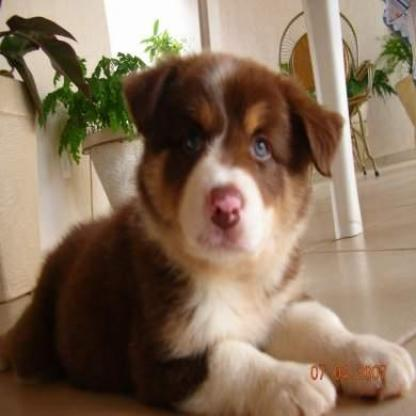collie: (0, 48, 413, 414)
